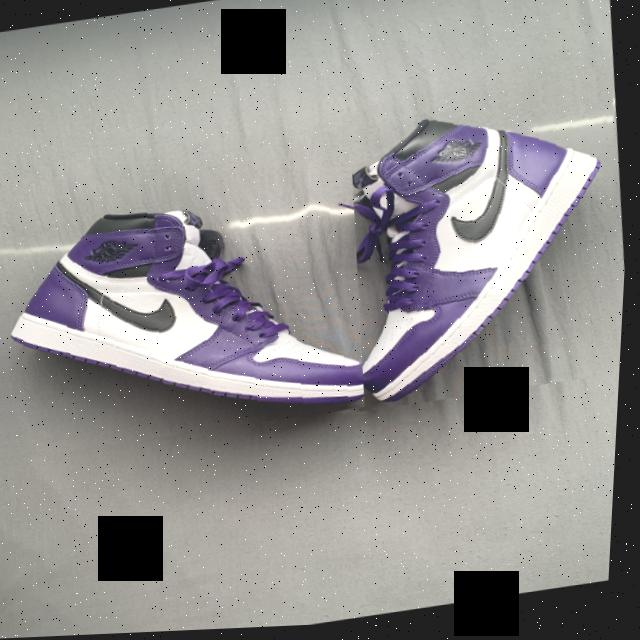shoe: (0, 165, 379, 462), (314, 74, 636, 418)
